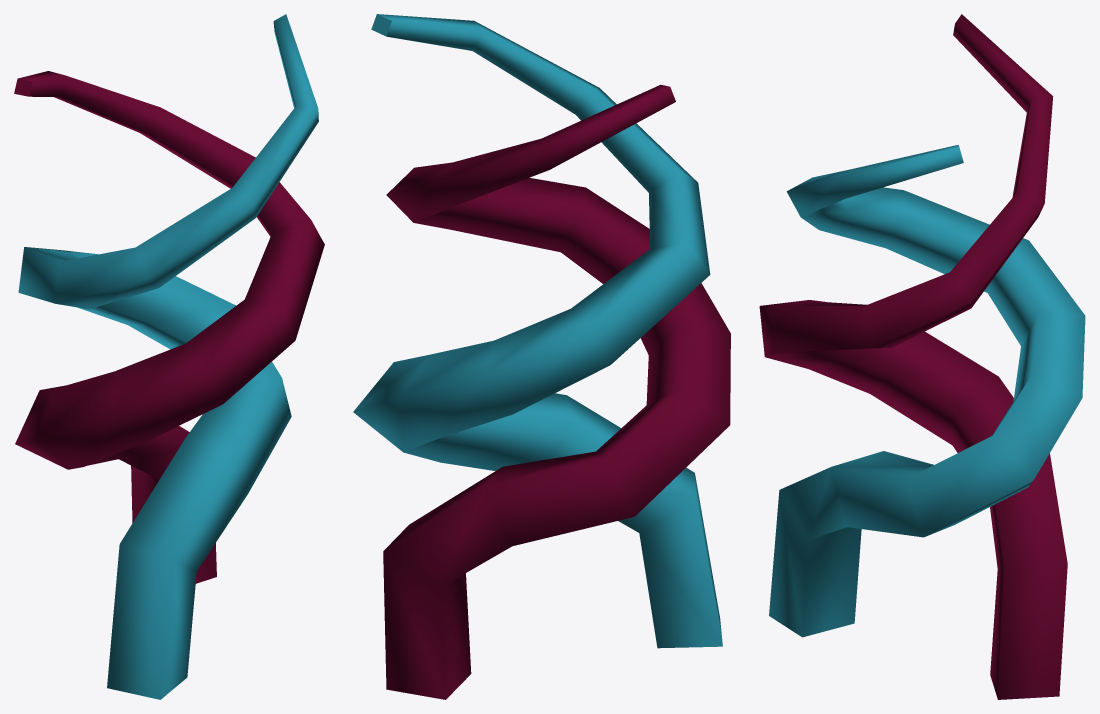
File: Plant 2.glb
3 renders of one model, left to right at view 1: azimuth 30°, elevation 25°; view 2: azimuth 150°, elevation 25°; view 3: azimuth 270°, elevation 25°, orthographic. The views are drawn at different scales.
Parts seen in each view (by area): view 1: Plant_2; view 2: Plant_2; view 3: Plant_2.
Boxes of the visible parts, x1,y1,x2,y2 form: Plant_2: (14, 14, 324, 699); Plant_2: (353, 14, 730, 699); Plant_2: (759, 14, 1085, 699).
Size of the model in its own units: 1.06 by 1.97 by 1.01.
1 material, 1 textured.
